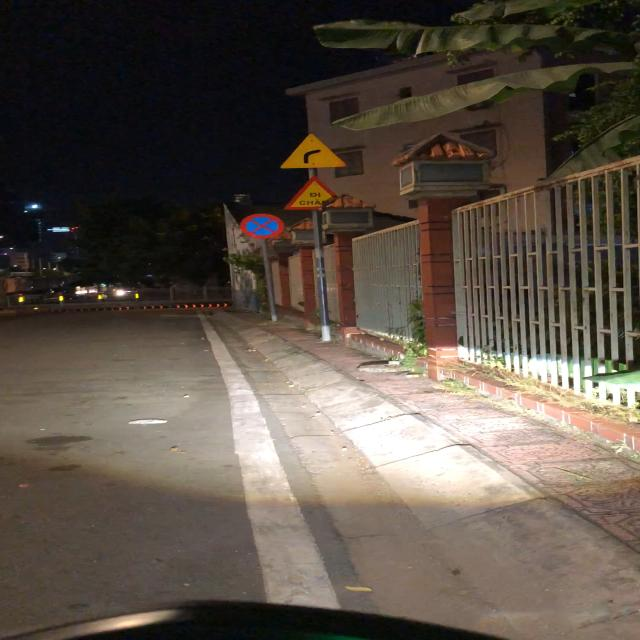Bien bao cam dung xe va do xe: (238, 212, 290, 242)
Bien bao cho ngoat nguy hiem: (276, 131, 346, 171)
Bien bao di cham: (282, 175, 351, 211)
